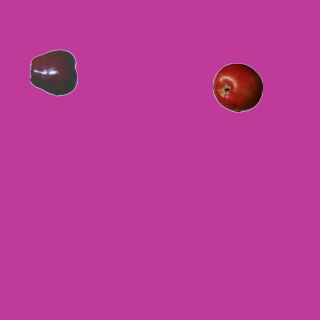Apple Braeburn: (212, 62, 262, 112)
Apple Red Delicious: (29, 47, 79, 97)
